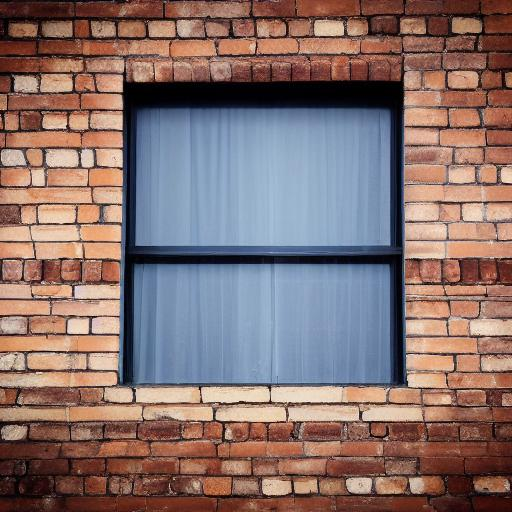Window: (112, 59, 412, 397)
